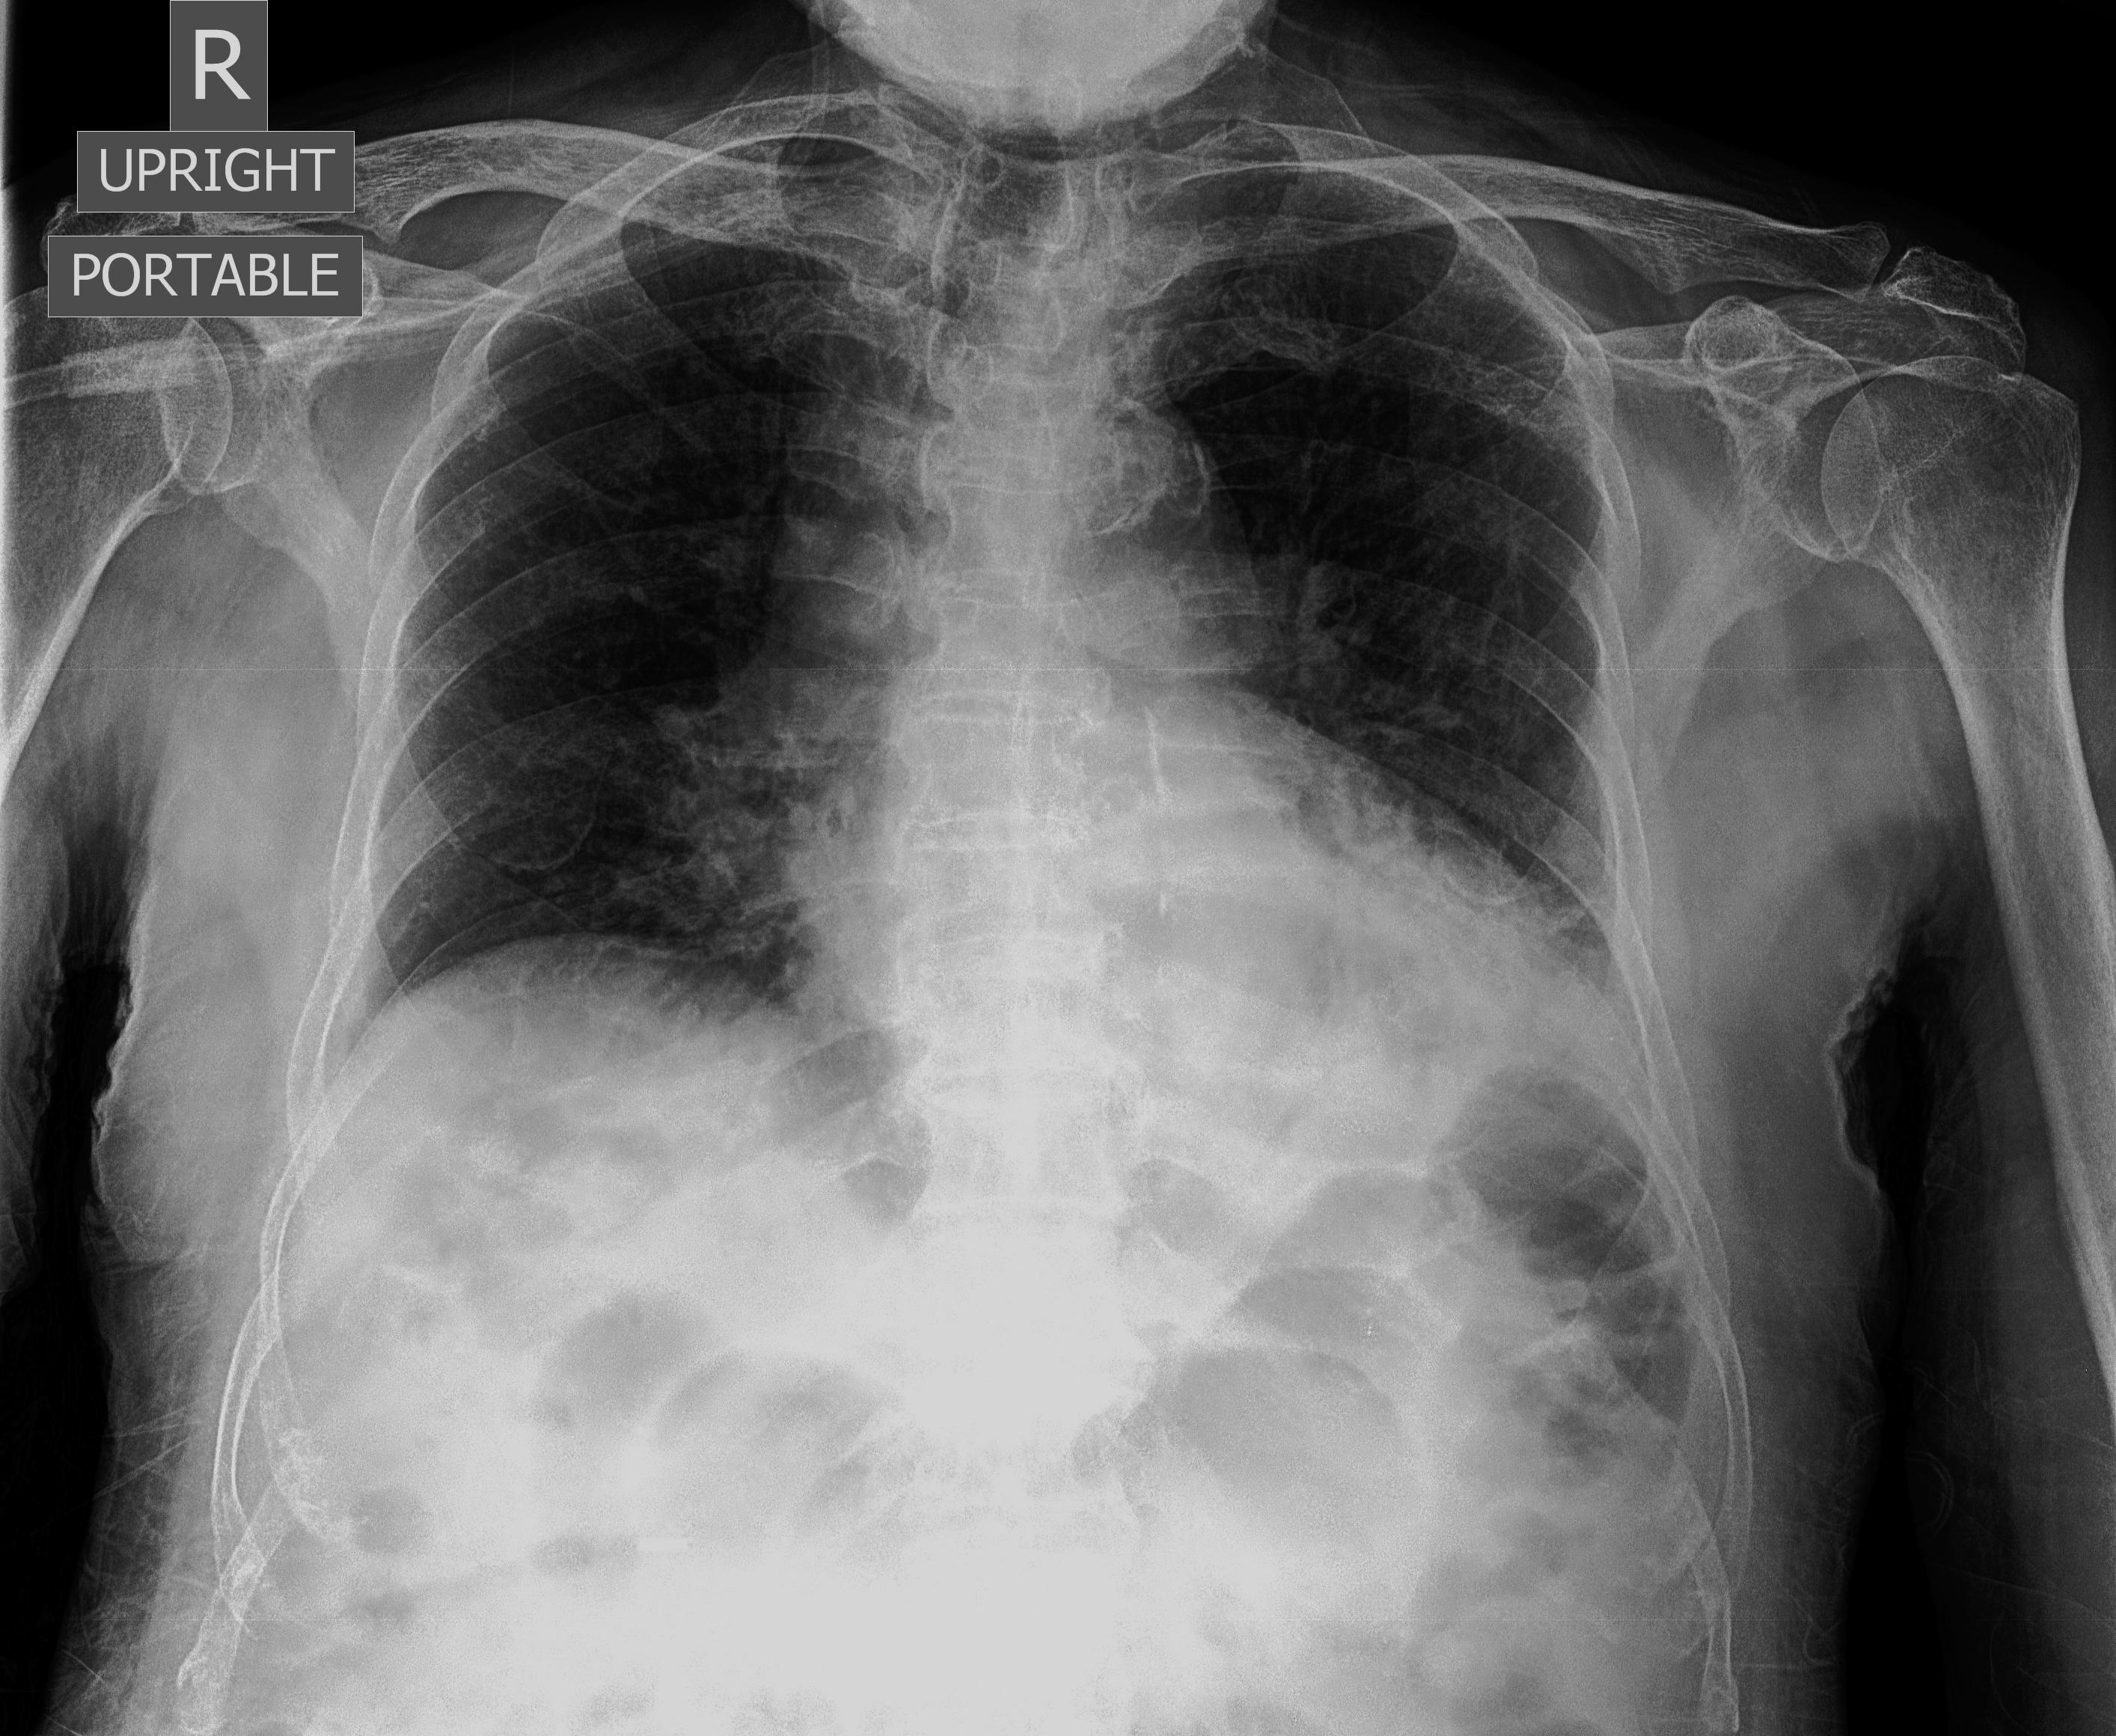Pleural Effusion: (1346, 921, 1703, 1195)
